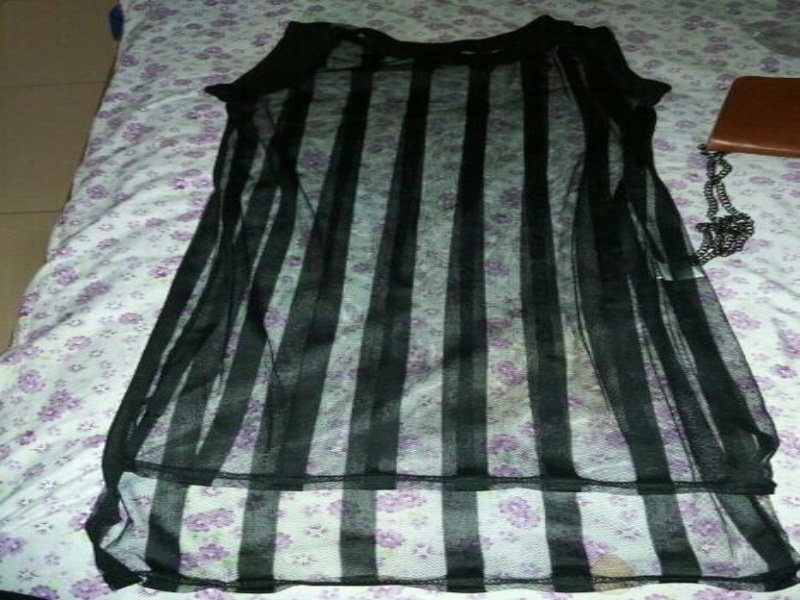vest_dress: (79, 12, 797, 599)
